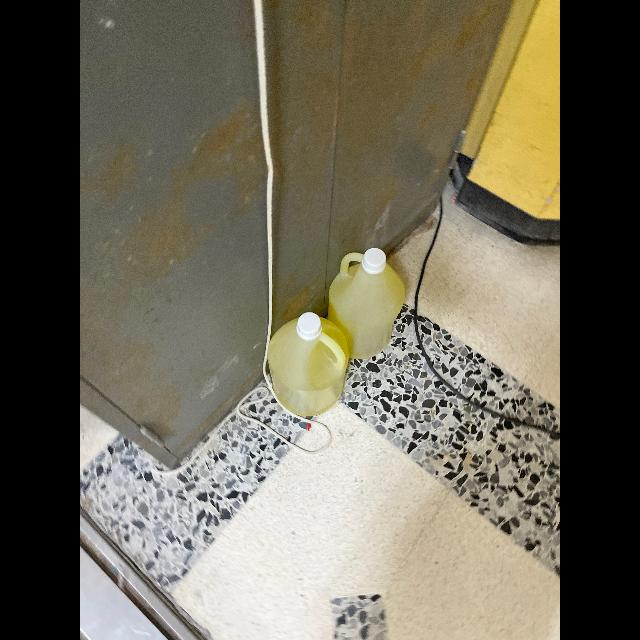chemical_plastic_gallon: (254, 304, 352, 424), (322, 236, 408, 368)
